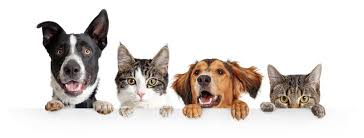cat: (115, 41, 171, 117), (262, 63, 325, 117)
dog: (36, 9, 112, 114), (173, 56, 260, 119)
